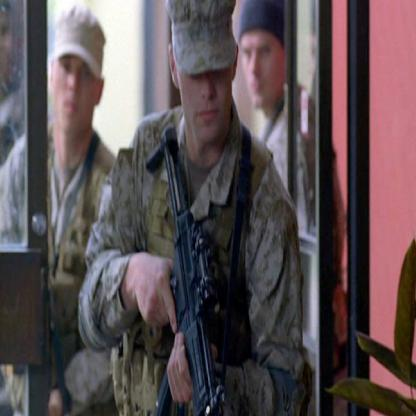Gun: (144, 122, 226, 415)
